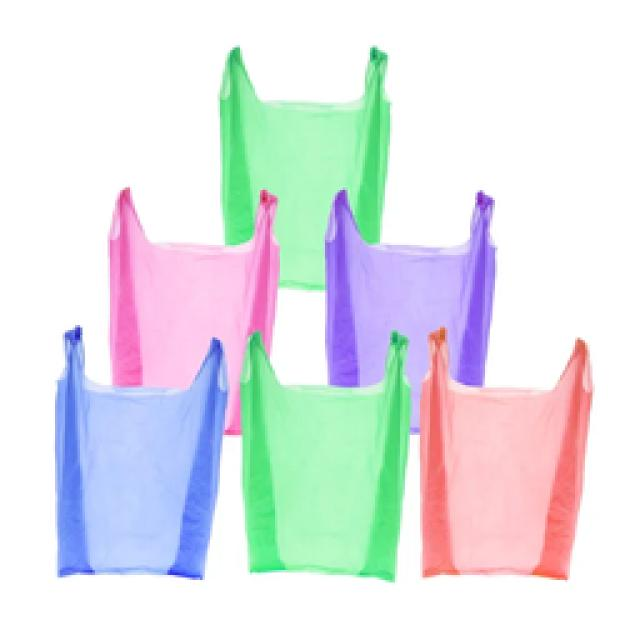plastic: (55, 50, 590, 578), (238, 330, 413, 583)
